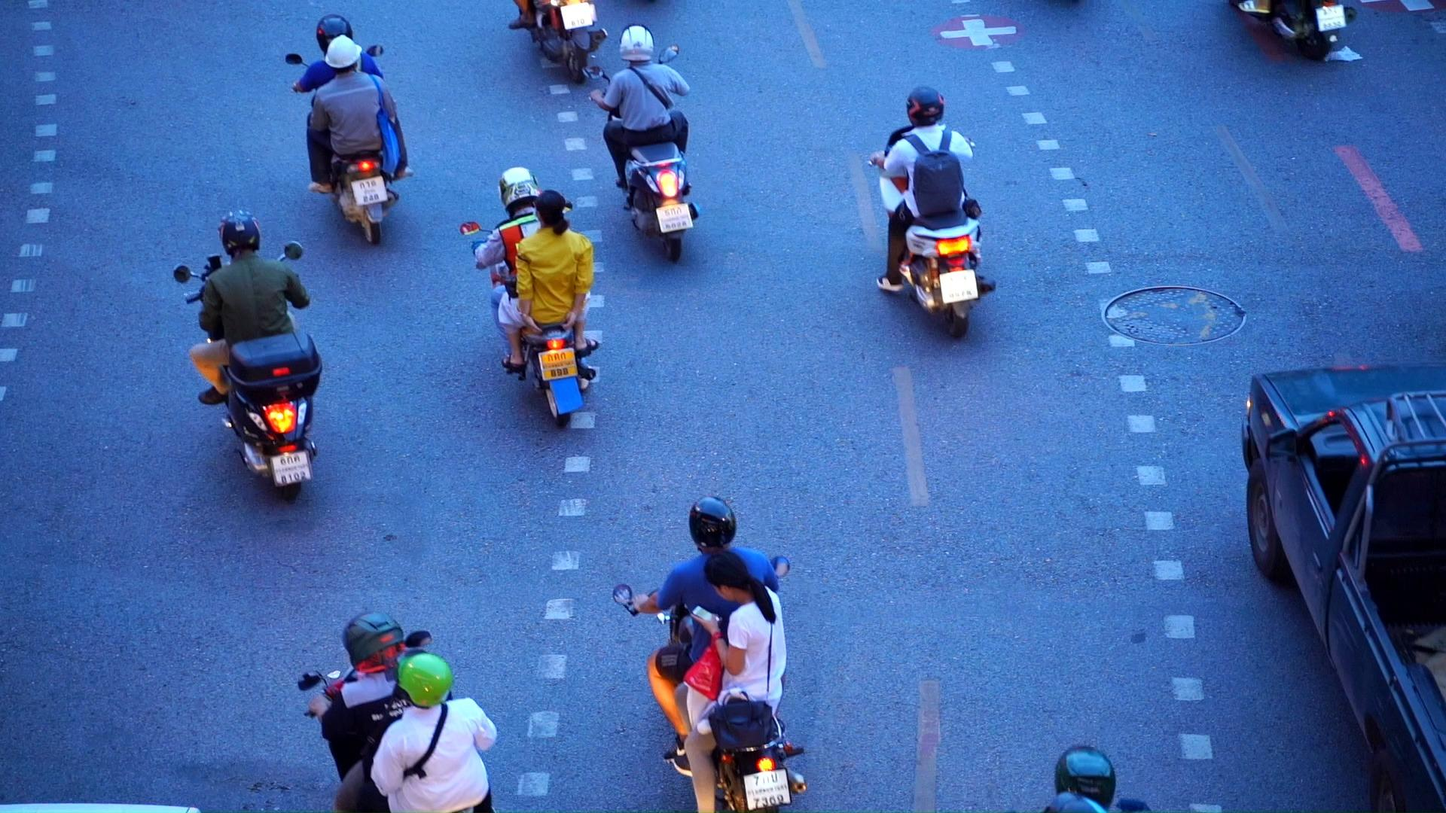driver: (611, 495, 806, 813), (173, 210, 323, 501), (297, 610, 498, 813), (461, 166, 598, 427), (867, 85, 995, 338), (284, 14, 413, 244), (582, 23, 702, 263), (509, 0, 609, 84), (1228, 0, 1358, 60)
helmet: (384, 649, 452, 710), (1054, 745, 1115, 811), (342, 611, 404, 674), (689, 495, 736, 548), (498, 166, 541, 214), (218, 210, 260, 256), (906, 86, 944, 128), (316, 14, 353, 57), (325, 34, 362, 74), (620, 23, 655, 63), (1041, 792, 1107, 813)
no-helmet: (704, 551, 774, 605), (532, 189, 570, 236)
